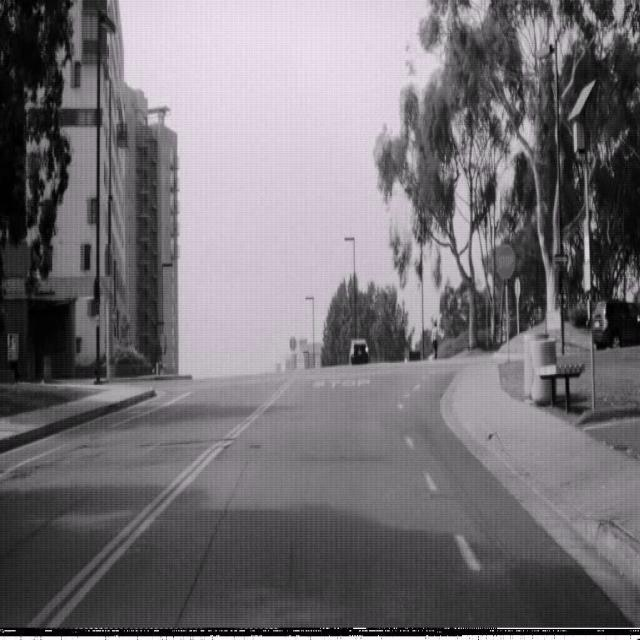stop: (495, 242, 516, 280)
